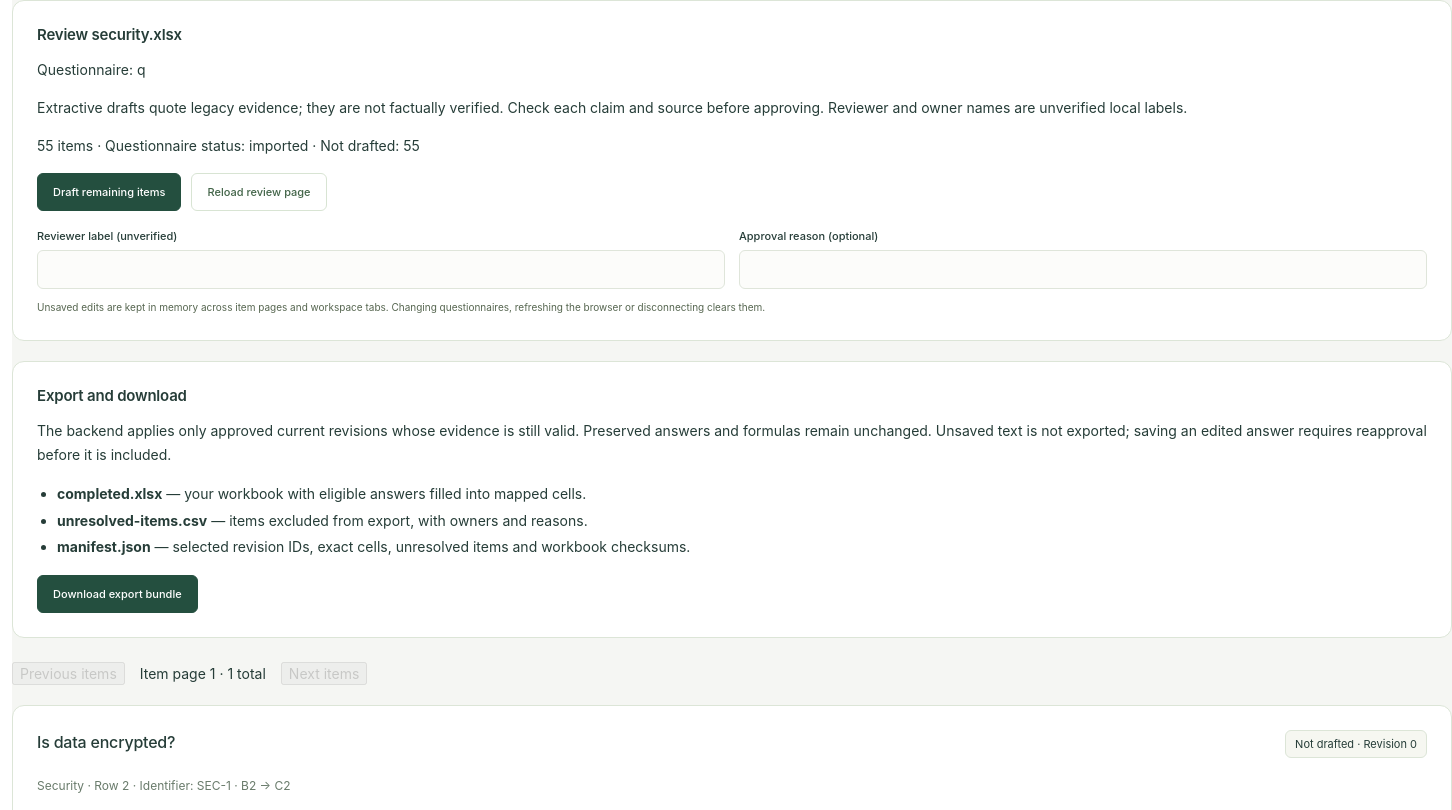
Test case: drafts bounded batches until remaining reaches zero without approving any answer
The image size is (1452, 810).
Expected: the heading "Is data encrypted?" is shown, 37,730 -> 175,755
Click the button "Draft remaining items" at (109, 192), box 37,173 -> 182,211
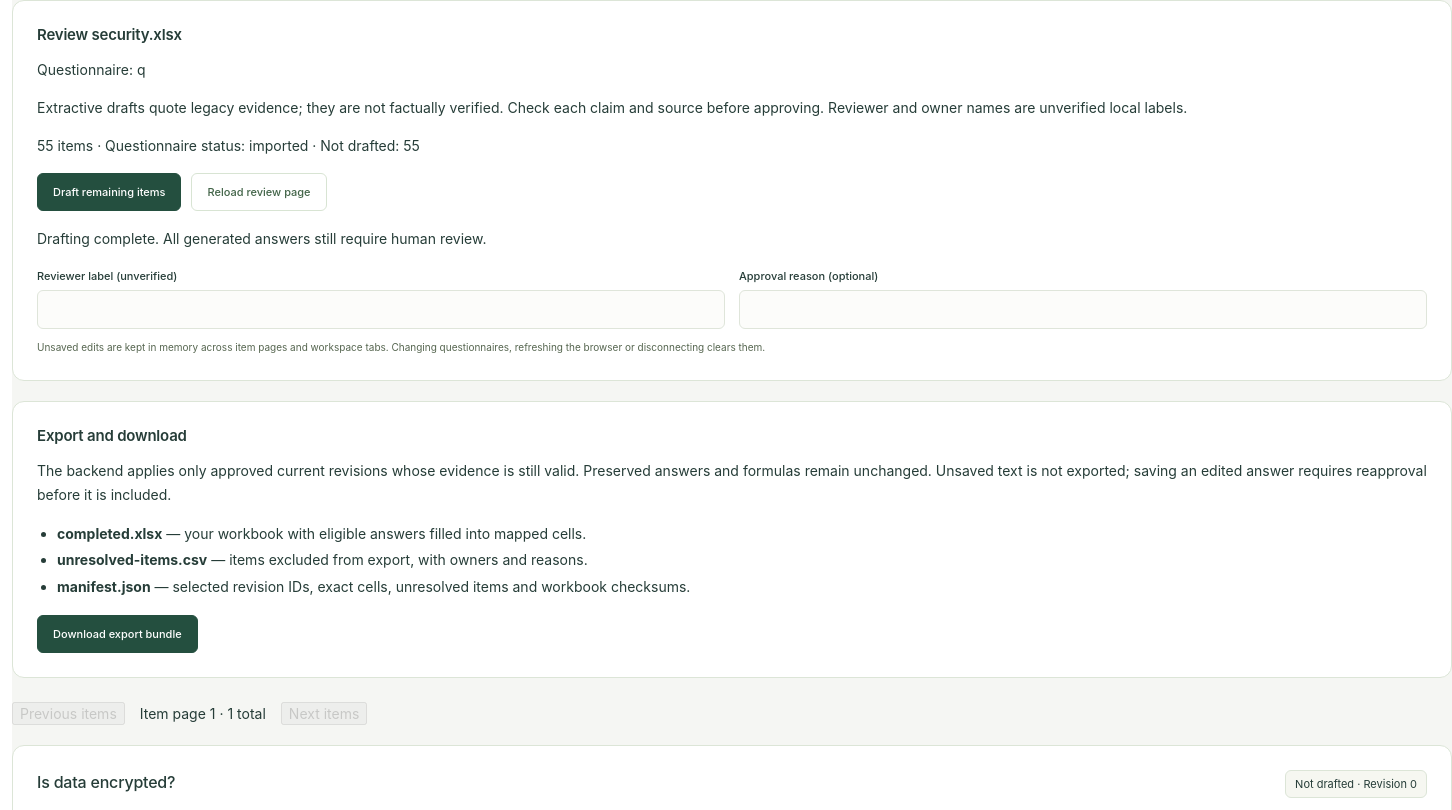
Result: the text "Drafting complete. All generated answers still require human review." is shown at 37,230 -> 486,247
